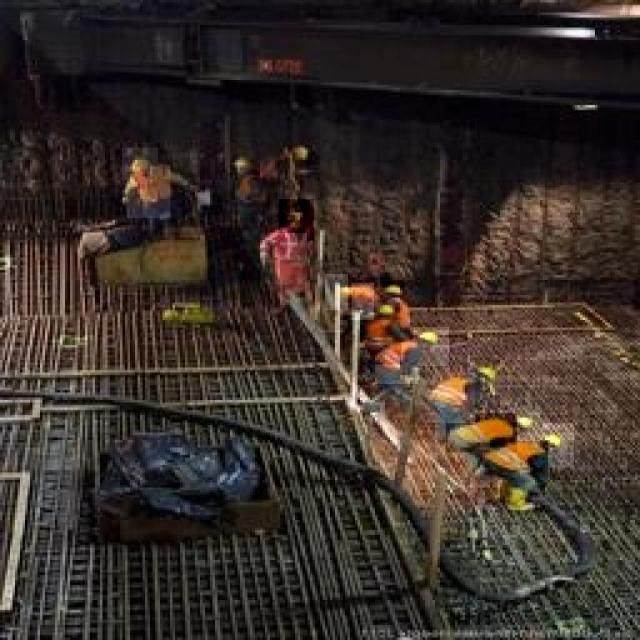Helmet: (261, 233, 307, 284), (538, 423, 574, 468), (278, 199, 314, 241), (414, 327, 449, 366), (122, 147, 158, 180), (473, 360, 505, 396), (514, 406, 542, 444), (325, 274, 348, 310), (378, 298, 398, 330), (380, 281, 404, 303)
Safety Vest: (446, 413, 517, 452), (428, 370, 476, 423), (126, 165, 170, 219), (484, 441, 548, 477), (361, 310, 402, 364), (375, 339, 419, 384), (390, 292, 410, 342), (352, 283, 374, 320)
